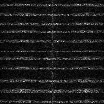wifi: (1, 2, 104, 6), (1, 12, 104, 16), (1, 21, 104, 25), (1, 29, 104, 33), (1, 38, 104, 42), (1, 55, 104, 59), (1, 65, 104, 69), (1, 78, 104, 82), (1, 88, 104, 92), (1, 98, 104, 102), (1, 49, 104, 52)
